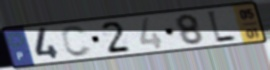2: (99, 20, 132, 55)
4: (34, 26, 64, 63), (138, 17, 165, 51)
8: (173, 13, 206, 46)
C: (59, 24, 94, 58)
L: (205, 9, 239, 45)
